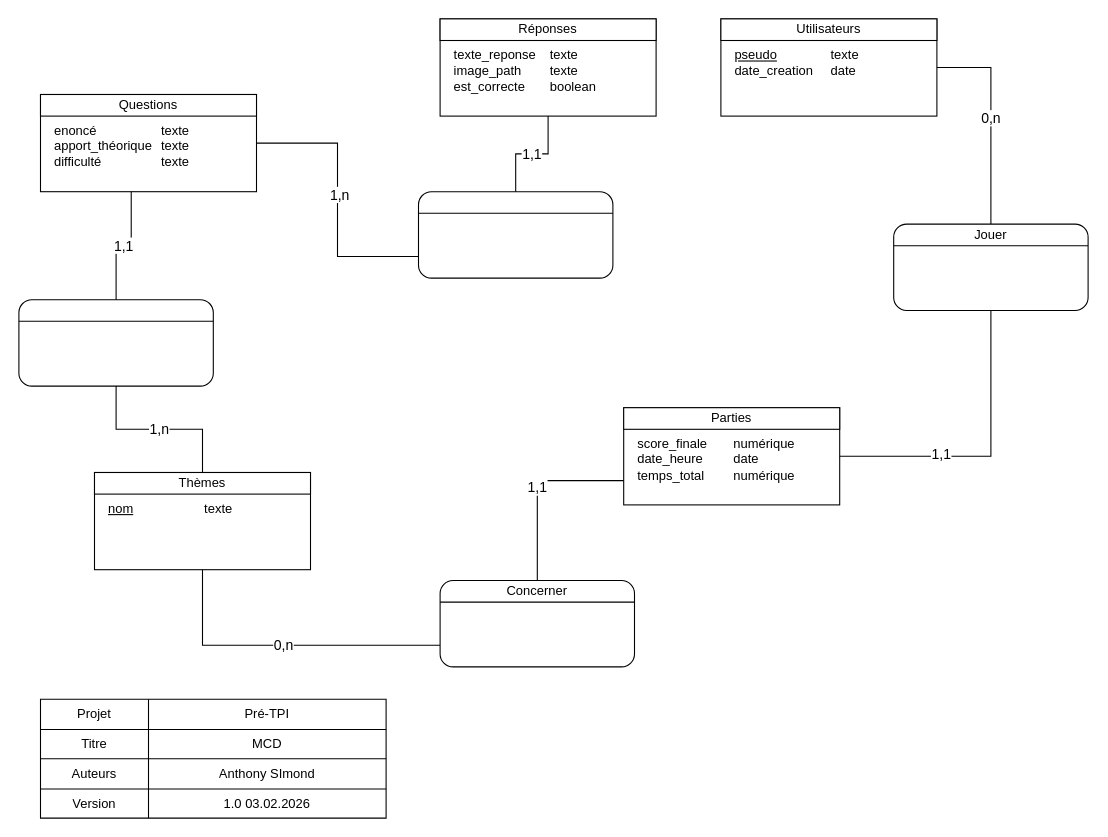
The diagram is 1108 pixels wide and 837 high, and some of its shapes have lost their labels. The box of each missing label's shape, as (x1, y1, x2, y2) in pixels:
Avoir: (18, 299, 213, 386)
Posséder: (417, 191, 613, 278)
